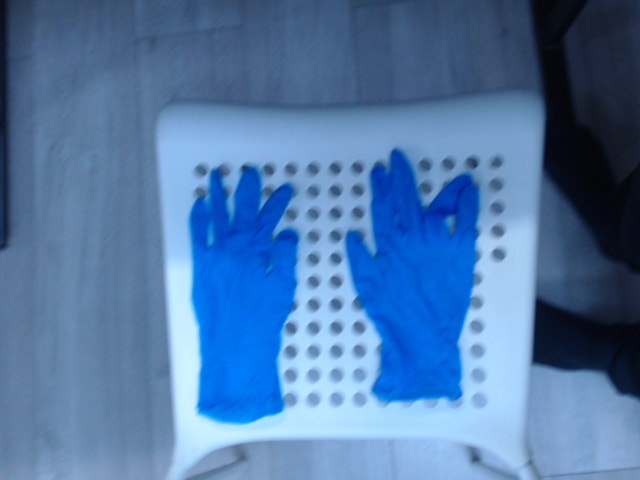medical_glove: (347, 149, 476, 404), (190, 166, 296, 421)
